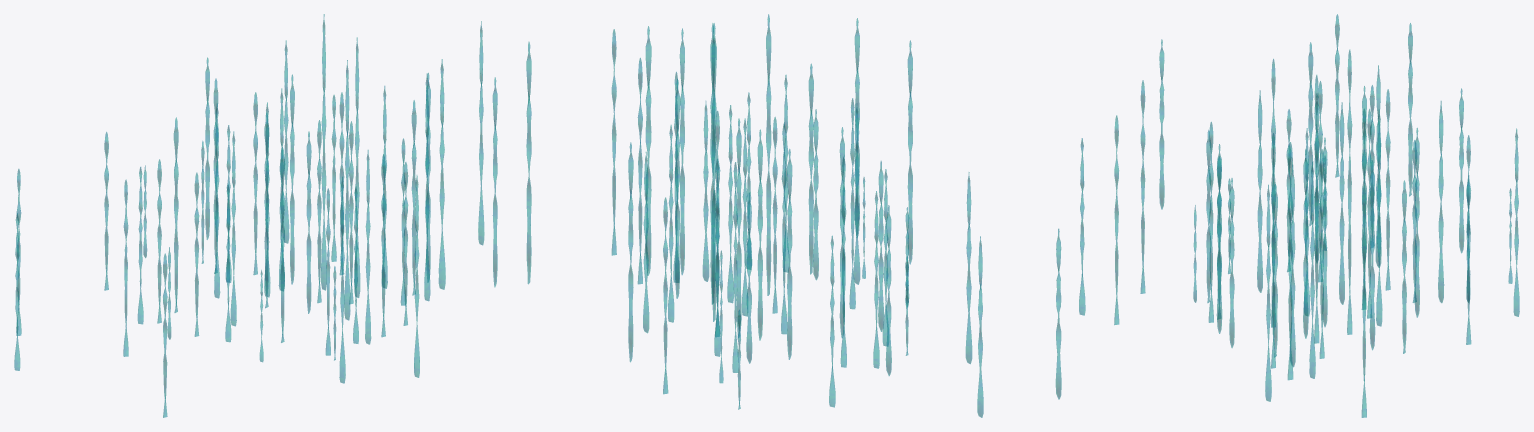
The model's file is seaweed2.obj.
The picture shows the model from 3 angles, left to right: view 1: azimuth 30°, elevation 25°; view 2: azimuth 150°, elevation 25°; view 3: azimuth 270°, elevation 25°; orthographic projection. The views are drawn at different scales.
Visible parts, largest first — view 1: Box043, Box016, Box025, Box017, Box037, Box034, Box010, Box015, Box019, Box006, Box028, Box023 (+33 smaller); view 2: Box016, Box043, Box017, Box025, Box015, Box034, Box006, Box044, Box026, Box033, Box042, Box035 (+33 smaller); view 3: Box043, Box025, Box017, Box023, Box005, Box041, Box019, Box015, Box010, Box037, Box018, Box032 (+33 smaller).
Boxes of the visible parts, <box> form: Box043: <box>321,14,326,290</box>; Box016: <box>344,60,350,320</box>; Box025: <box>354,37,360,297</box>; Box017: <box>438,59,445,289</box>; Box037: <box>290,74,294,284</box>; Box034: <box>478,21,484,245</box>; Box010: <box>492,77,497,287</box>; Box015: <box>424,73,430,301</box>; Box019: <box>426,73,430,281</box>; Box006: <box>339,176,345,383</box>; Box028: <box>306,131,311,313</box>; Box023: <box>264,113,269,308</box>; Box016: <box>766,14,771,295</box>; Box043: <box>711,23,716,321</box>; Box017: <box>645,26,651,275</box>; Box025: <box>710,23,715,304</box>; Box015: <box>679,28,684,274</box>; Box034: <box>526,42,531,284</box>; Box006: <box>907,40,912,264</box>; Box044: <box>628,142,633,362</box>; Box026: <box>675,79,680,298</box>; Box033: <box>757,129,762,340</box>; Box042: <box>787,149,792,359</box>; Box035: <box>736,118,741,337</box>; Box043: <box>1347,49,1352,334</box>; Box025: <box>1314,75,1319,343</box>; Box017: <box>1287,142,1293,380</box>; Box023: <box>1339,102,1344,304</box>; Box005: <box>1257,90,1263,292</box>; Box041: <box>1438,101,1444,302</box>; Box019: <box>1309,161,1315,378</box>; Box015: <box>1271,133,1275,368</box>; Box010: <box>1265,184,1271,401</box>; Box037: <box>1376,109,1382,326</box>; Box018: <box>1303,149,1308,338</box>; Box032: <box>1375,65,1381,267</box>.
Size of the model in its own units: 51.61 by 28.21 by 36.37.
1 material, 1 textured.
